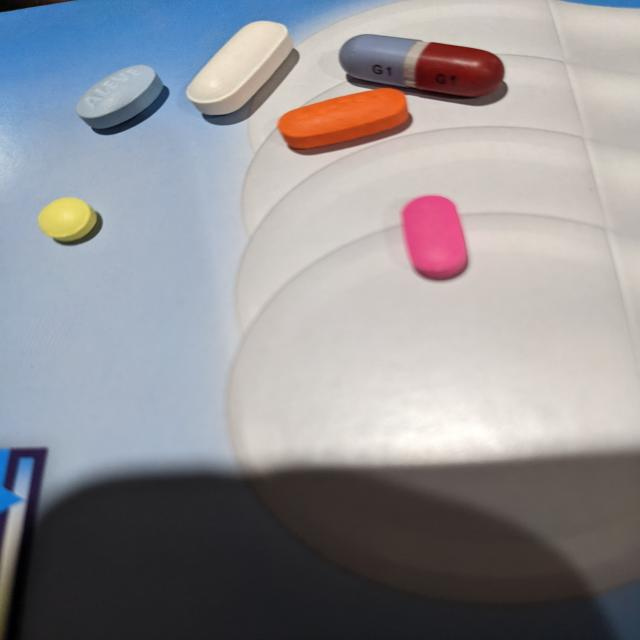non-organic waste: (336, 33, 506, 100), (184, 20, 295, 117), (276, 86, 411, 151), (399, 194, 472, 282), (74, 64, 165, 130), (36, 196, 98, 243)
